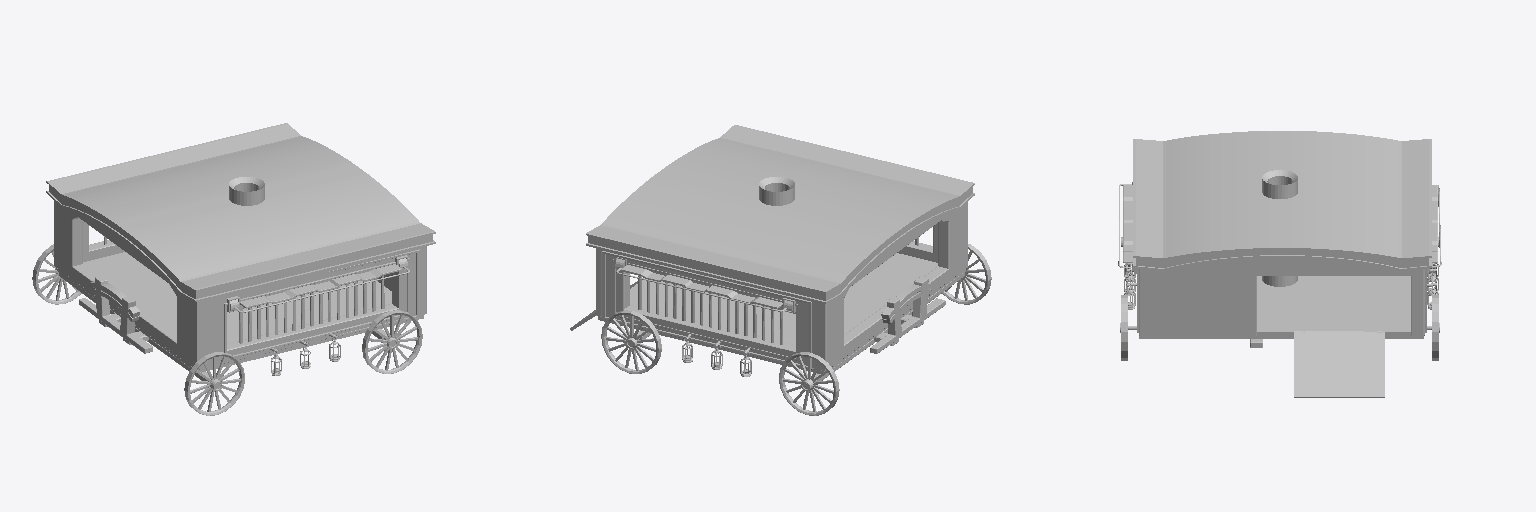
Rendered from CarriageNew.obj.
3 views of the same model, side by side, from view 1: azimuth 30°, elevation 25°; view 2: azimuth 150°, elevation 25°; view 3: azimuth 270°, elevation 25° (orthographic).
Visible parts, largest first — view 1: Cover, pCube114, pCube114.001, polySurface167.001, Frame4, Bar3.001, pCube115, Cylinder.001, polySurface167, Frame1, pCube118, Pole1.001; view 2: Cover, pCube114, pCube114.001, polySurface167.001, FrameSmallest.001, Bar3.001, pCube115, Cylinder.001, Frame5, polySurface167, Pole1.002, pCube118; view 3: Cover, pCube114, pCube114.001, pCube114.002, polySurface167.001, Cylinder.001, Frame4, FrameSmallest.001.
Boxes of the visible parts, x1,y1,x2,y2 form: Cover: [46, 123, 435, 301]; pCube114: [54, 201, 426, 369]; pCube114.001: [56, 252, 423, 372]; polySurface167.001: [32, 244, 422, 415]; Frame4: [224, 255, 409, 359]; Bar3.001: [104, 237, 384, 343]; pCube115: [79, 276, 152, 353]; Cylinder.001: [229, 177, 264, 205]; polySurface167: [55, 269, 397, 390]; Frame1: [290, 249, 420, 347]; pCube118: [90, 281, 139, 321]; Pole1.001: [270, 333, 340, 375]; Cover: [586, 125, 974, 303]; pCube114: [596, 202, 967, 370]; pCube114.001: [598, 253, 965, 373]; polySurface167.001: [601, 244, 991, 415]; FrameSmallest.001: [601, 251, 812, 369]; Bar3.001: [638, 237, 918, 344]; pCube115: [870, 277, 945, 353]; Cylinder.001: [759, 177, 794, 205]; Frame5: [613, 259, 797, 360]; polySurface167: [626, 269, 968, 390]; Pole1.002: [682, 334, 751, 376]; pCube118: [881, 282, 932, 323]; Cover: [1133, 131, 1431, 270]; pCube114: [1139, 258, 1424, 335]; pCube114.001: [1139, 276, 1423, 338]; pCube114.002: [1294, 331, 1384, 397]; polySurface167.001: [1121, 264, 1438, 360]; Cylinder.001: [1262, 170, 1297, 198]; Frame4: [1118, 182, 1136, 273]; FrameSmallest.001: [1425, 185, 1441, 332].
Size of the model in its own units: 2.99 by 1.45 by 2.87.